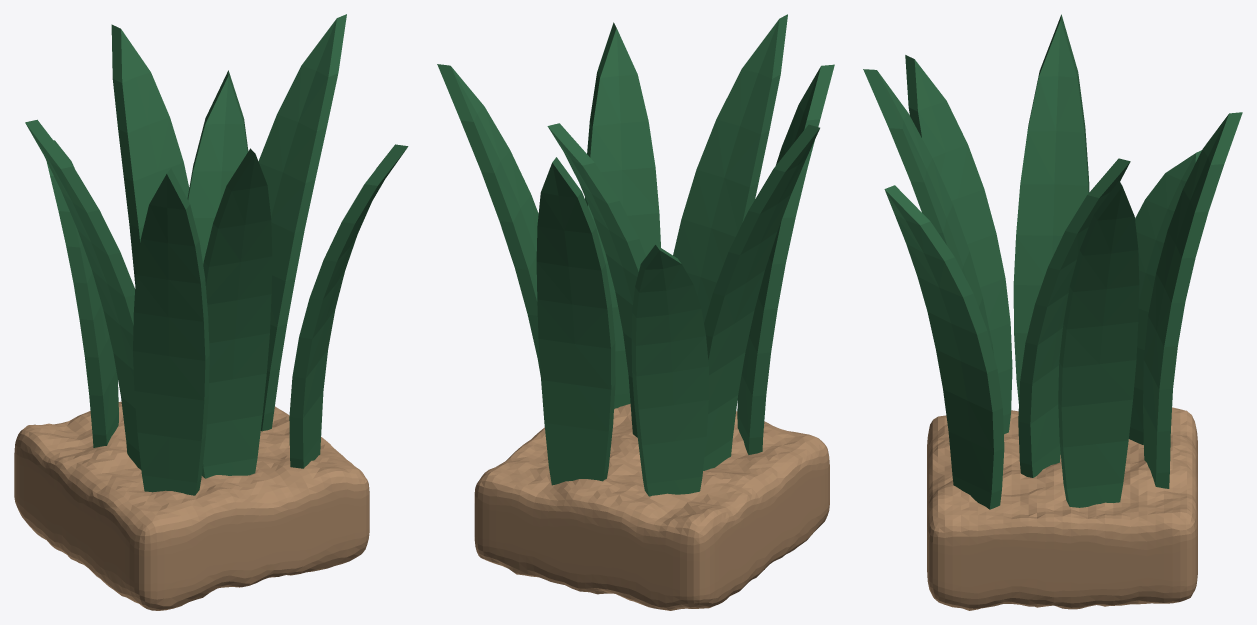
Rendered from grass.fbx.
The picture shows the model from 3 angles, left to right: view 1: azimuth 30°, elevation 25°; view 2: azimuth 150°, elevation 25°; view 3: azimuth 270°, elevation 25°; orthographic projection.
Parts seen in each view (by area): view 1: Cube; view 2: Cube; view 3: Cube.
Part boxes in pixels (box(x1,y1,x2,y2)): Cube: box(14, 14, 408, 610); Cube: box(437, 14, 834, 610); Cube: box(863, 14, 1242, 610).
Size of the model in its own units: 301 by 388 by 280.
